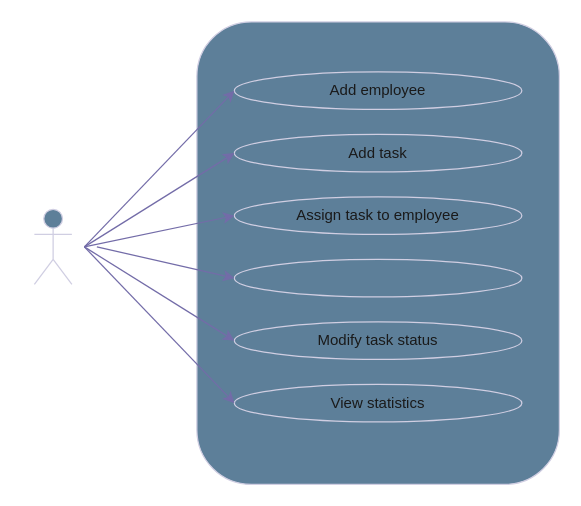
This 581x506 diagram has some shape labels left out. Here are the shapes that lost their labels. From the top down, the centre of each, then its label:
(52,246): App User
(377,277): View employees and tasks
